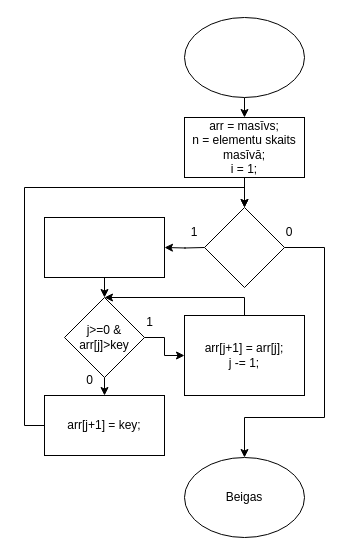
Image size: 350x555. Some labels were removed from this diagram. The centre of each missing label's shape, as x and y in pixels:
i < n: [244,247]
key = arr[i]; j = i - 1;: [104,247]
Sākums: [244,57]
